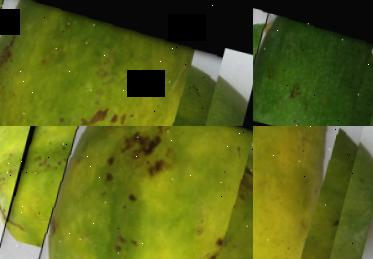PartiallyRipe: (0, 126, 253, 259), (0, 0, 228, 126), (253, 126, 370, 259)
Unripe: (253, 3, 373, 126)
